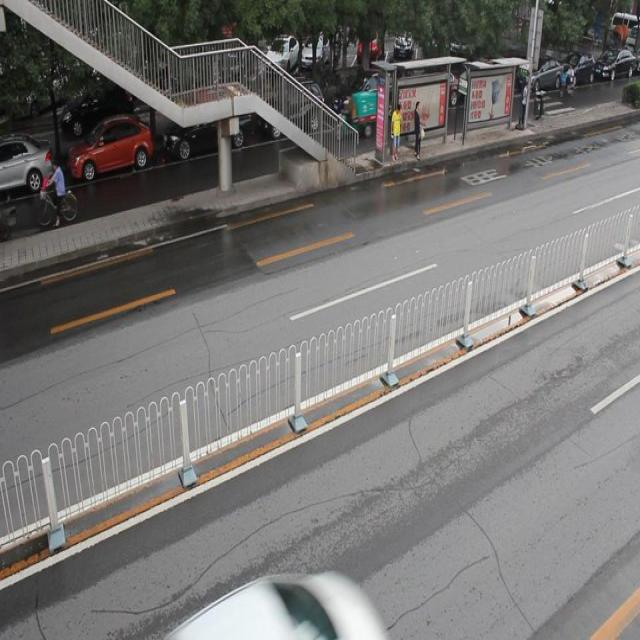car: (171, 573, 381, 640), (66, 116, 151, 180), (157, 106, 249, 161), (259, 78, 320, 138), (336, 68, 396, 124), (1, 137, 52, 196)
